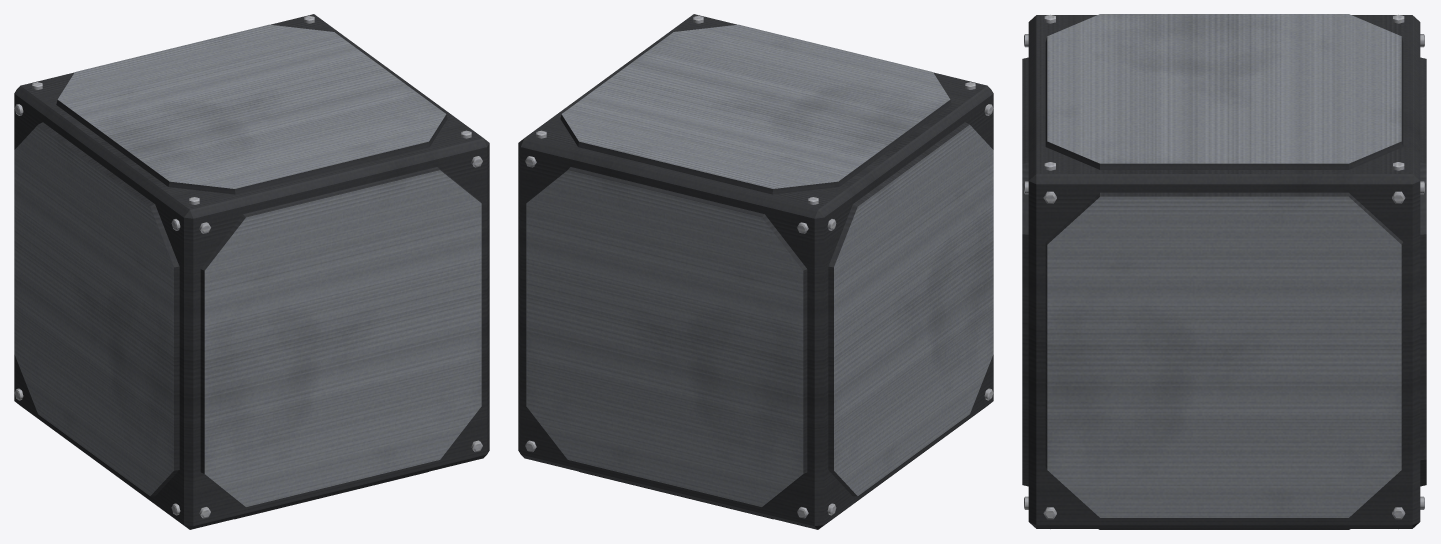
3 renders of one model, left to right at view 1: azimuth 30°, elevation 25°; view 2: azimuth 150°, elevation 25°; view 3: azimuth 270°, elevation 25°, orthographic. The views are drawn at different scales.
Visible parts, largest first — view 1: R4B_Cube; view 2: R4B_Cube; view 3: R4B_Cube.
Boxes of the visible parts, x1=… form: R4B_Cube: x1=14, y1=14, x2=489, y2=529; R4B_Cube: x1=518, y1=14, x2=993, y2=529; R4B_Cube: x1=1022, y1=14, x2=1426, y2=529.
Size of the model in its own units: 0.52 by 0.52 by 0.52.
Materials: 3 (3 with a texture image).
